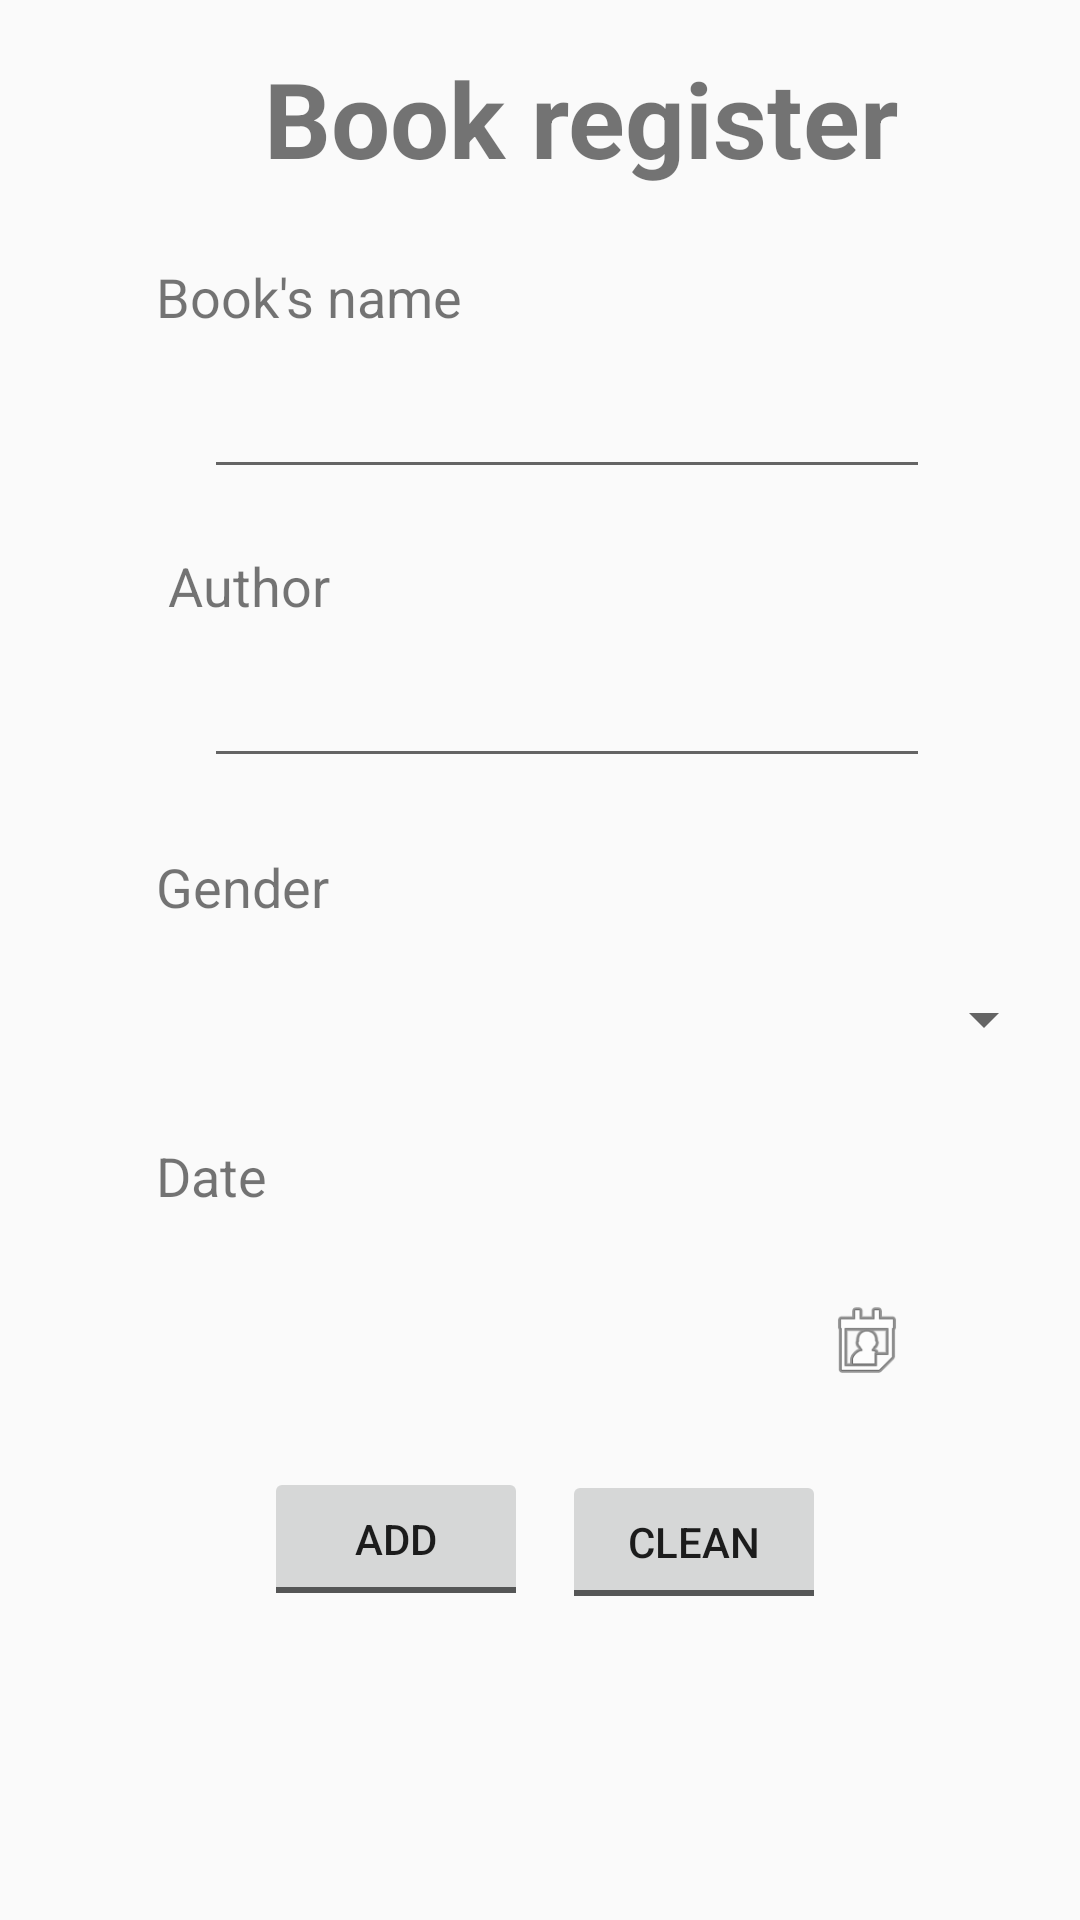

Icons on this 1080 × 1920 Android screen, each with the point to tap as (x=x, y=y):
calendar: (x=867, y=1340)
